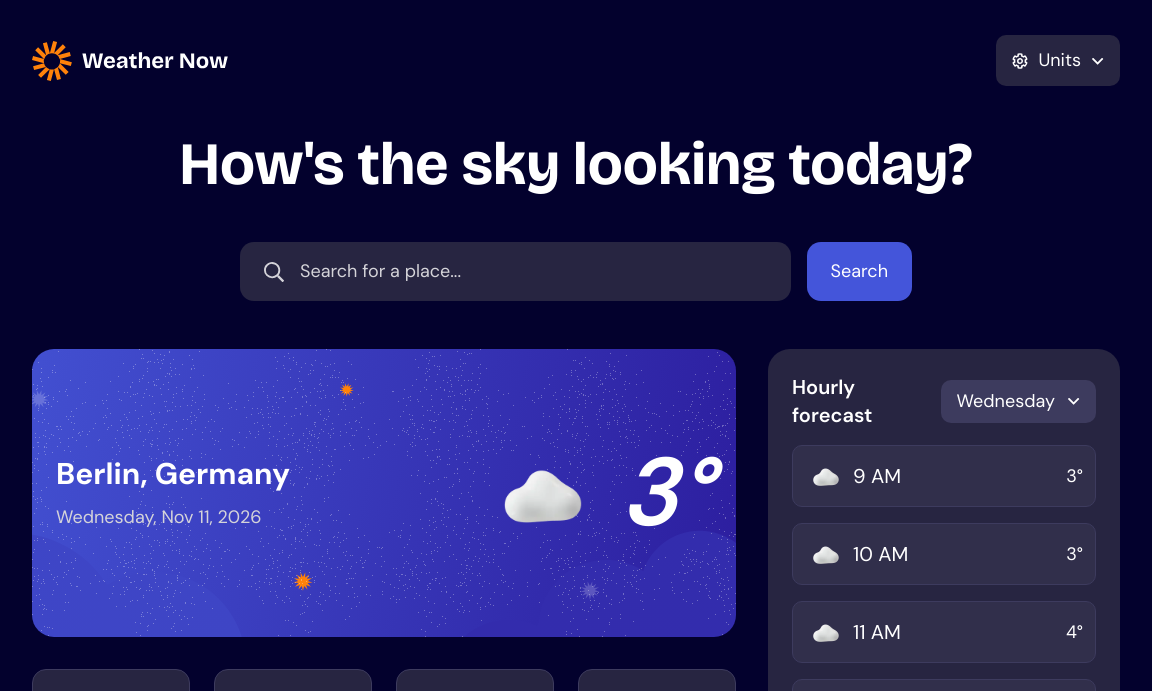
Test: 다른 요일 선택 › Thursday를 고르면 각 시각 행에 그날 그 시각의 반올림한 기온과 날씨 아이콘을 보여준다
This screenshot has width=1152, height=691.
Expected: the text "Berlin, Germany" is shown, [56, 456, 290, 492]
Click the button "Wednesday". click: click(1018, 401)
box: [941, 380, 1096, 422]
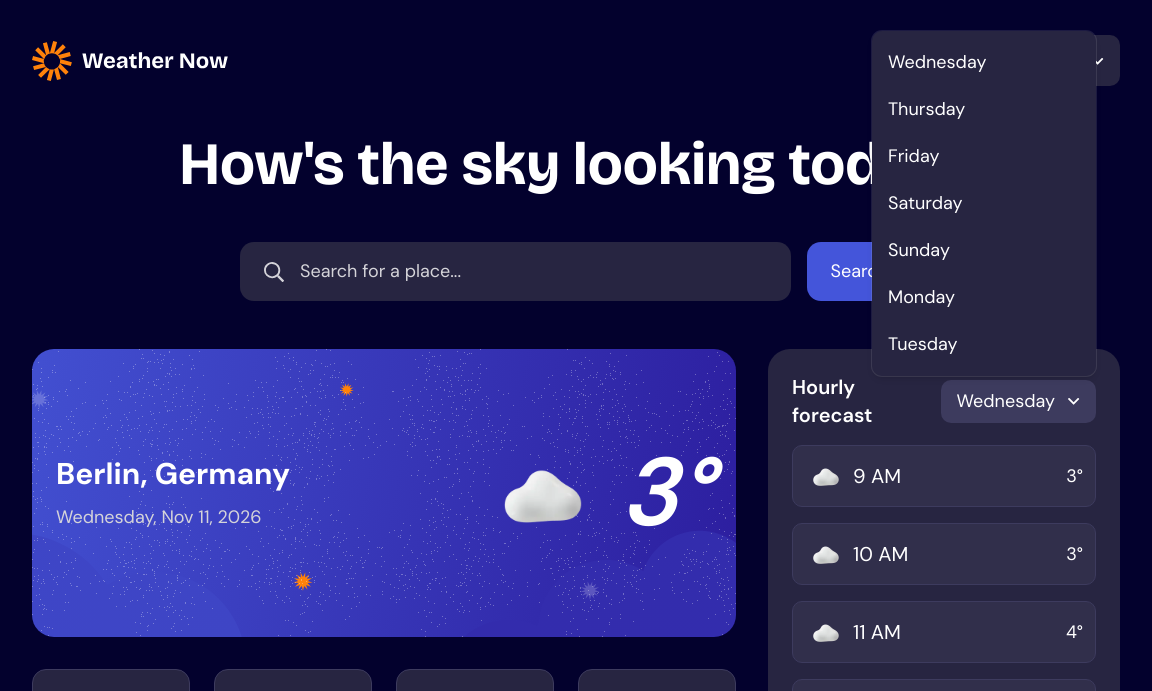
Result: the menu item "Thursday" is shown
Click the menu item "Thursday". click: click(927, 109)
box: [888, 97, 965, 121]
(page scrolled)
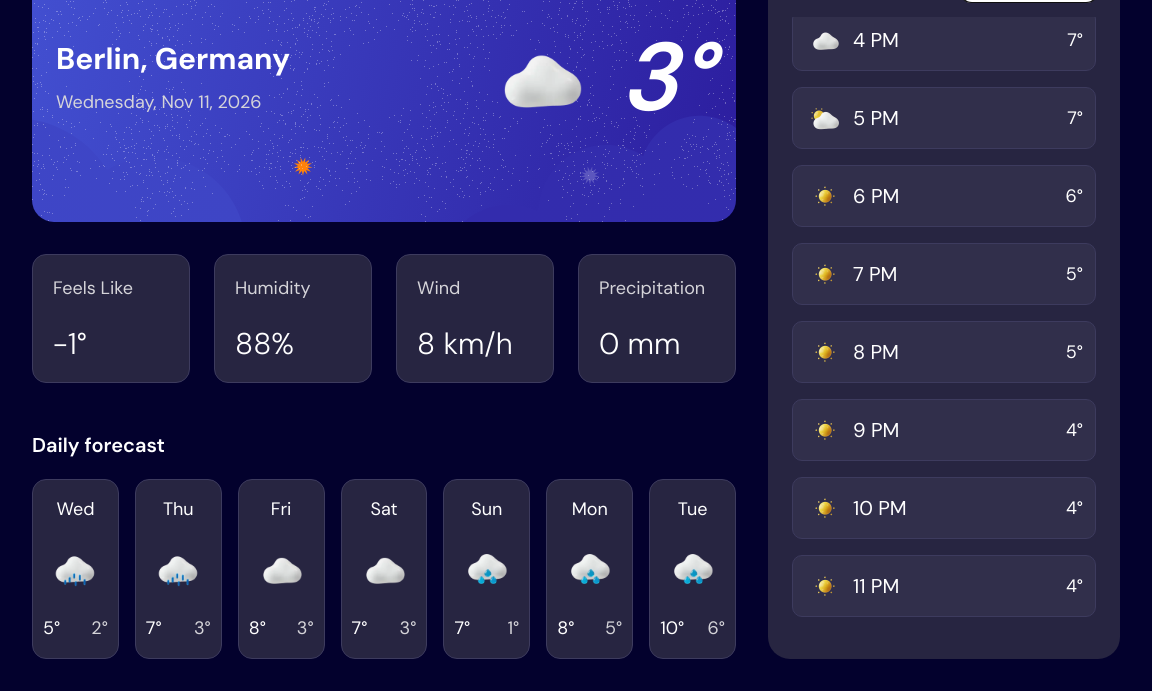
Expected: the picture named "Overcast" next to "4 PM" is shown, [805, 20, 845, 60]
Result: the picture named "Partly cloudy" is shown at [805, 98, 845, 138]
Result: the picture named "Clear" next to "11 PM" is shown at [805, 566, 845, 606]
